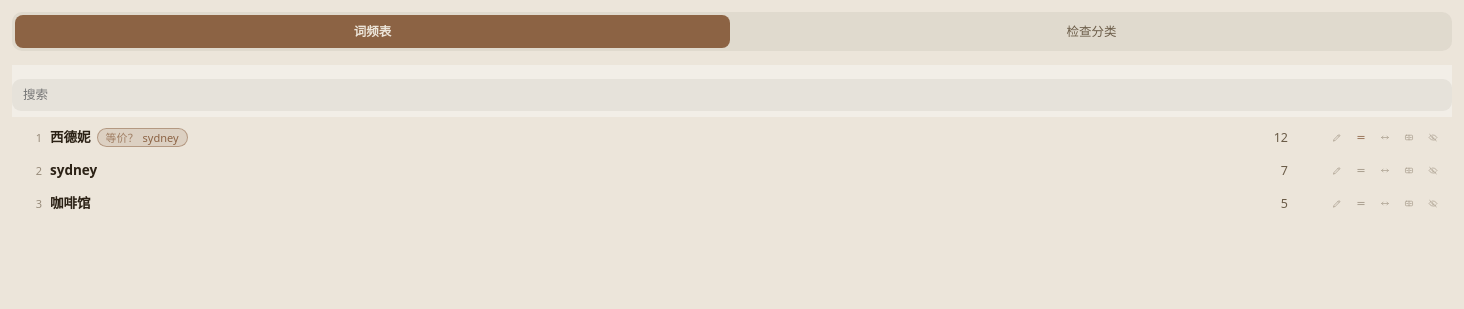
WordsPanel equivalence mode › the ≡ button turns the search box into the merge input, and × leaves
The image size is (1464, 309).
Expected: the field labelled "要并入" is not shown
Step 1. Click the button titled "等价：" → click(1361, 137), box [1350, 126, 1372, 148]
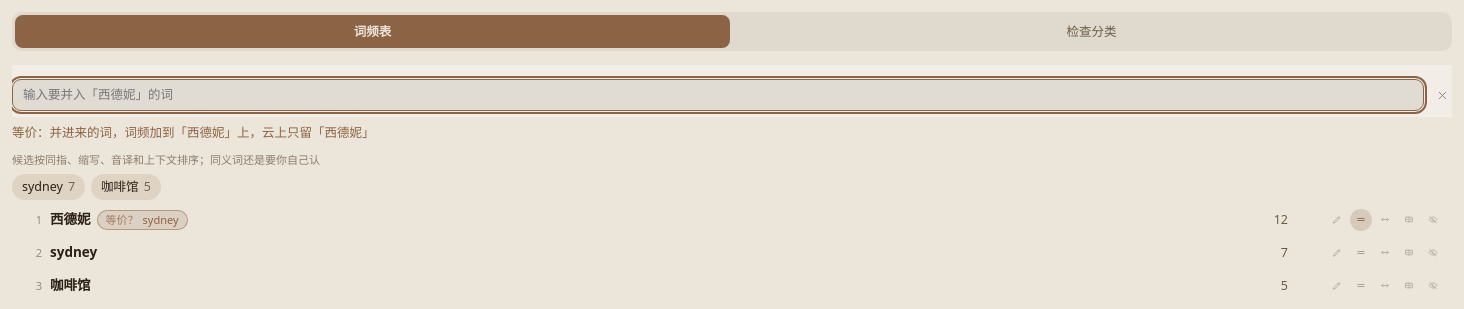
Step 2. Click the button titled "退出等价模式" → click(1441, 95), box [1430, 84, 1452, 106]
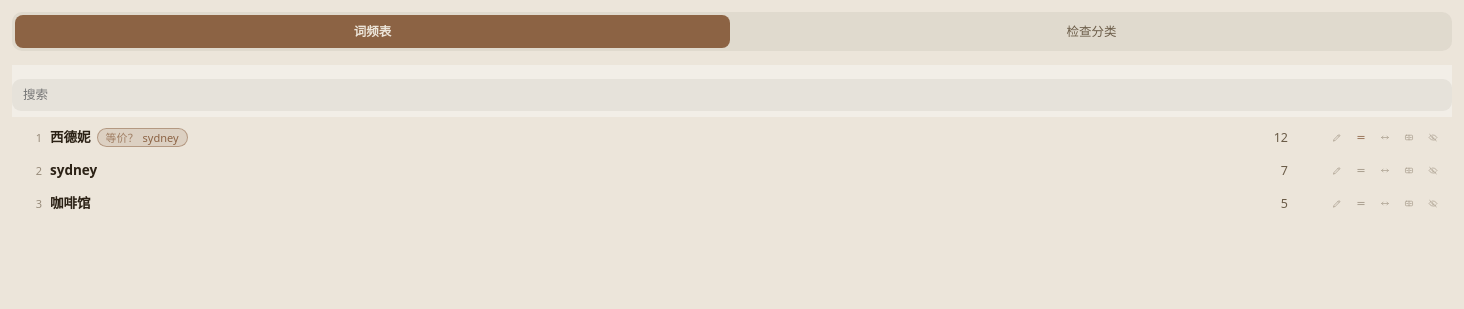
Expected: the field labelled "要并入" is not shown
Result: the field with placeholder "搜索" is shown at [12, 79, 1452, 111]
